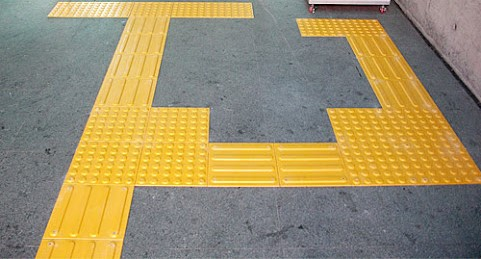dot: (410, 139, 477, 185), (75, 141, 139, 186), (143, 143, 208, 187), (346, 141, 409, 184), (148, 105, 210, 144), (326, 107, 388, 144), (86, 104, 147, 141), (391, 107, 450, 144), (339, 17, 385, 38), (295, 16, 338, 37), (173, 1, 205, 18), (113, 2, 146, 18), (53, 1, 85, 17), (205, 1, 231, 19), (86, 1, 116, 16), (147, 1, 171, 17), (230, 3, 252, 18)
line: (46, 183, 131, 238), (207, 142, 283, 189), (273, 141, 349, 187), (371, 79, 435, 107), (355, 56, 417, 81), (96, 79, 156, 104), (111, 53, 160, 80), (121, 33, 167, 58), (349, 36, 401, 58), (127, 16, 169, 34)
